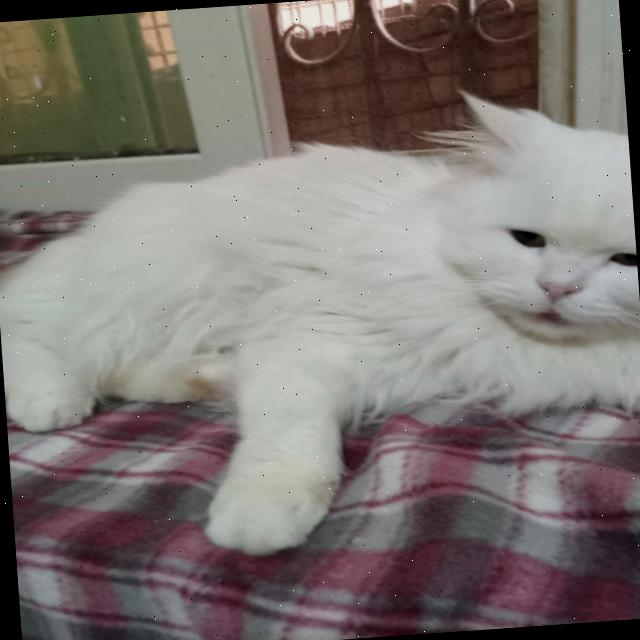persian_cat: (391, 60, 640, 378)
